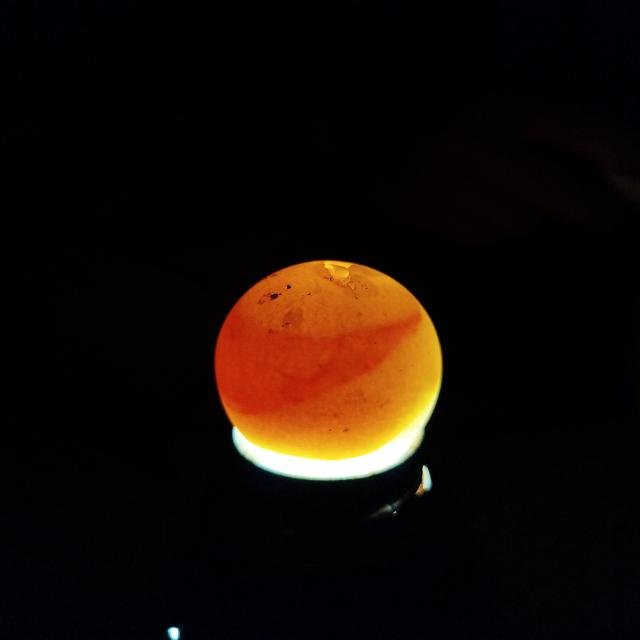Gema Quebrada: (215, 306, 421, 415)
